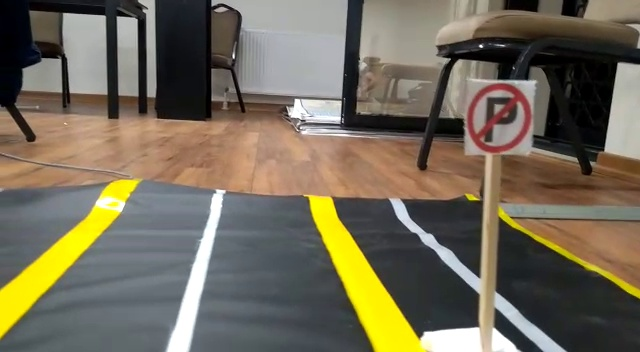park_yapilmaz: (462, 79, 531, 156)
